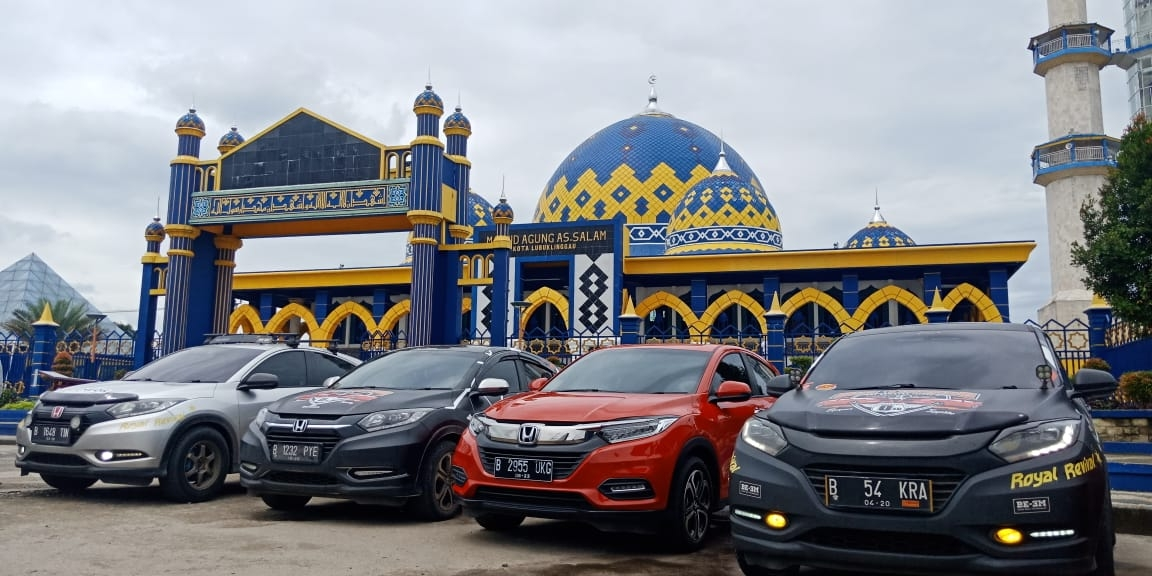plate: (824, 473, 930, 511), (494, 458, 552, 482), (270, 446, 320, 463), (31, 424, 70, 443)
